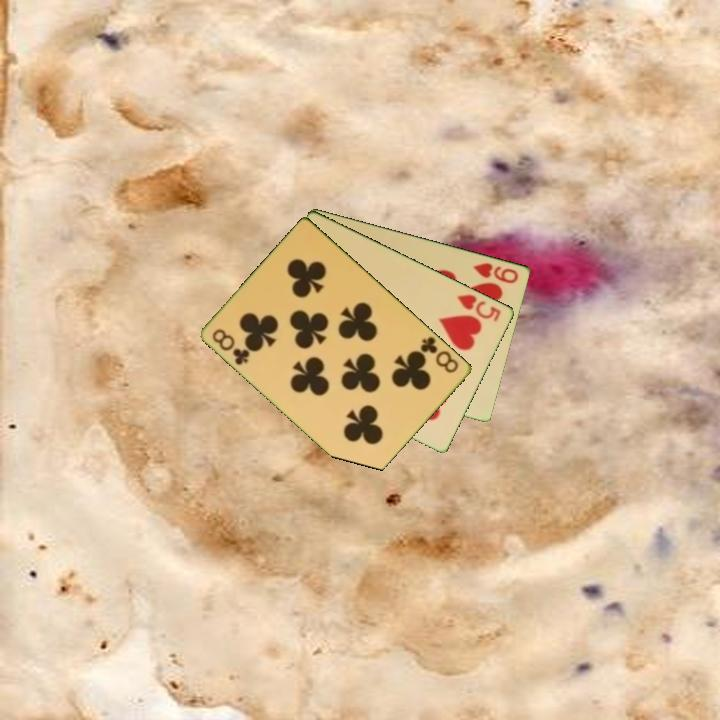5h: (454, 290, 504, 324)
8c: (417, 333, 462, 376), (209, 325, 253, 368)
9h: (470, 259, 522, 286)
